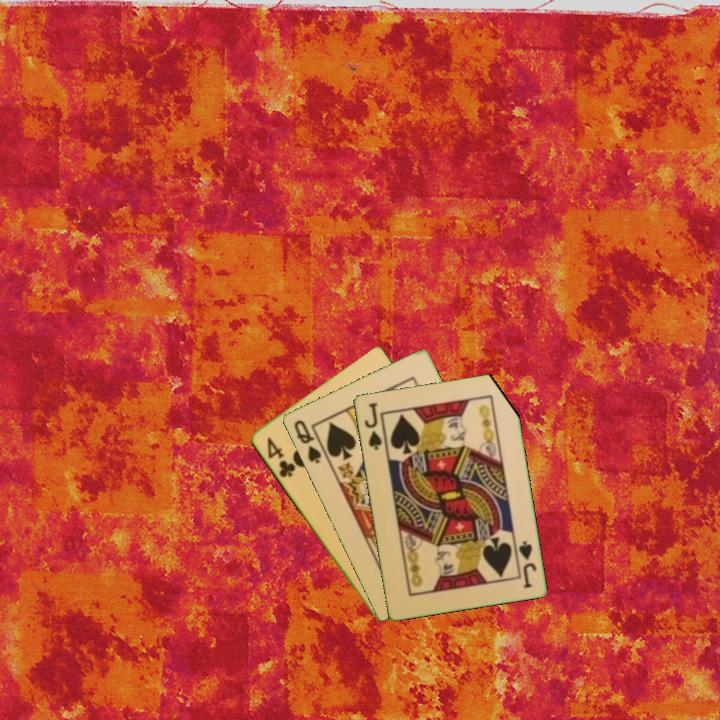4c: (263, 434, 298, 481)
Js: (360, 399, 384, 453), (515, 537, 539, 591)
Qs: (290, 416, 324, 467)
